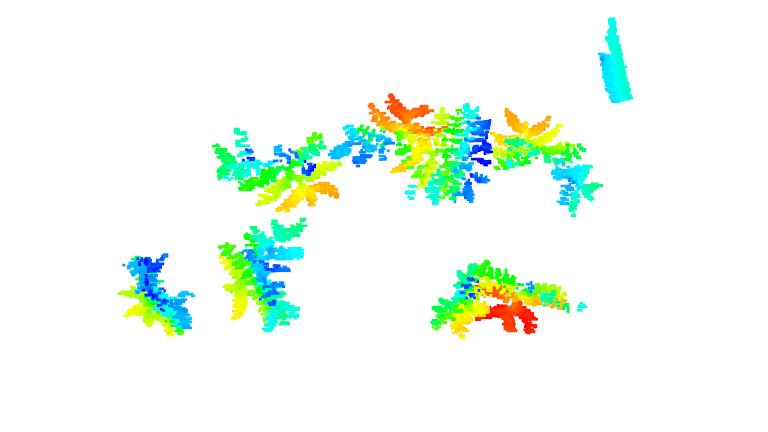chickpea: (492, 100, 606, 216), (392, 103, 496, 225), (207, 128, 344, 218), (209, 216, 310, 335), (477, 251, 576, 336), (342, 91, 441, 174), (416, 260, 493, 352), (114, 255, 197, 338)
